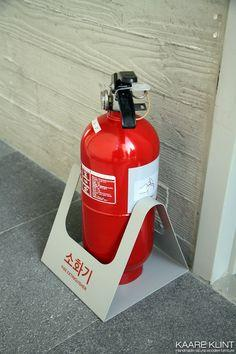floor-kept: (57, 50, 206, 316)
